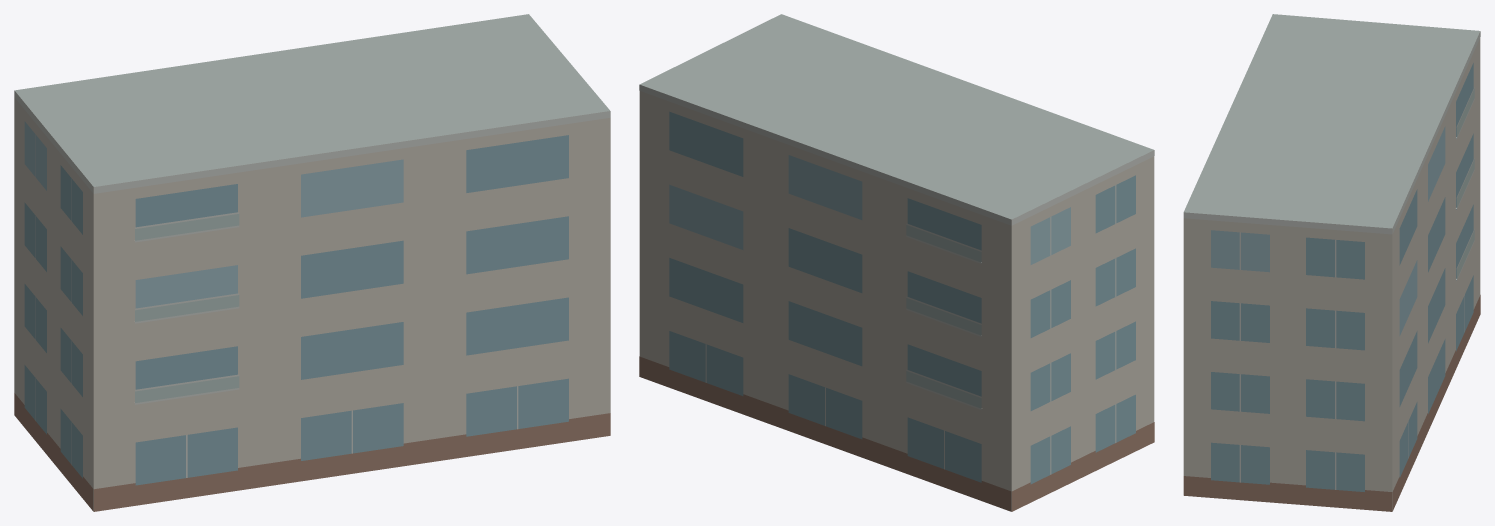
Rendered from survey-upis-32894230.glb.
3 renders of one model, left to right at view 1: azimuth 30°, elevation 25°; view 2: azimuth 150°, elevation 25°; view 3: azimuth 270°, elevation 25°, orthographic. The views are drawn at different scales.
Parts seen in each view (by area): view 1: survey-upis-32894230.tmp; view 2: survey-upis-32894230.tmp; view 3: survey-upis-32894230.tmp.
Part boxes in pixels (left/top/right/bottom): survey-upis-32894230.tmp: left=14, top=14, right=610, bottom=511; survey-upis-32894230.tmp: left=639, top=14, right=1154, bottom=511; survey-upis-32894230.tmp: left=1183, top=14, right=1480, bottom=511.
Size of the model in its own units: 18.84 by 11.6 by 11.03.
